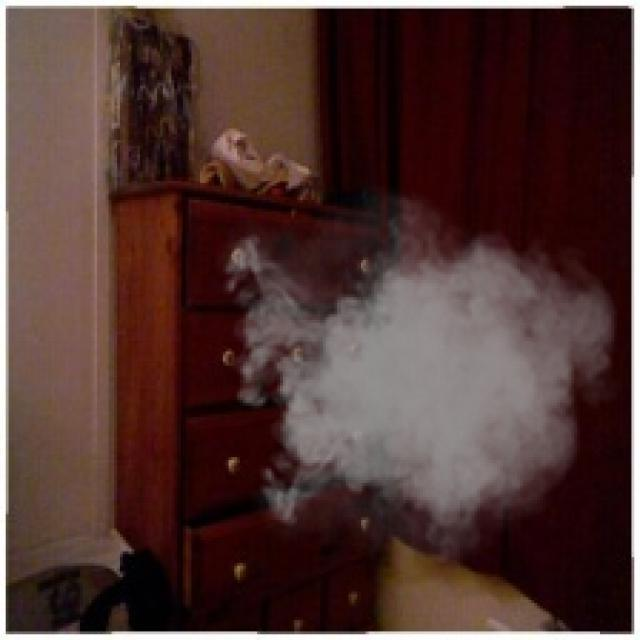Smoke: (211, 174, 623, 586)
